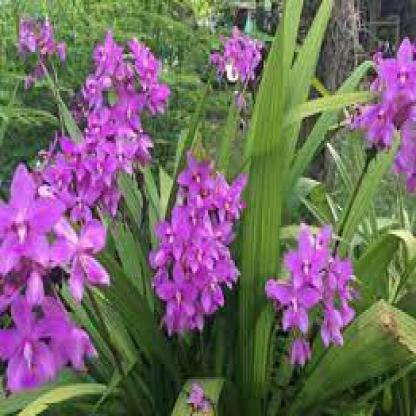ANGGREK: (23, 47, 398, 387)
